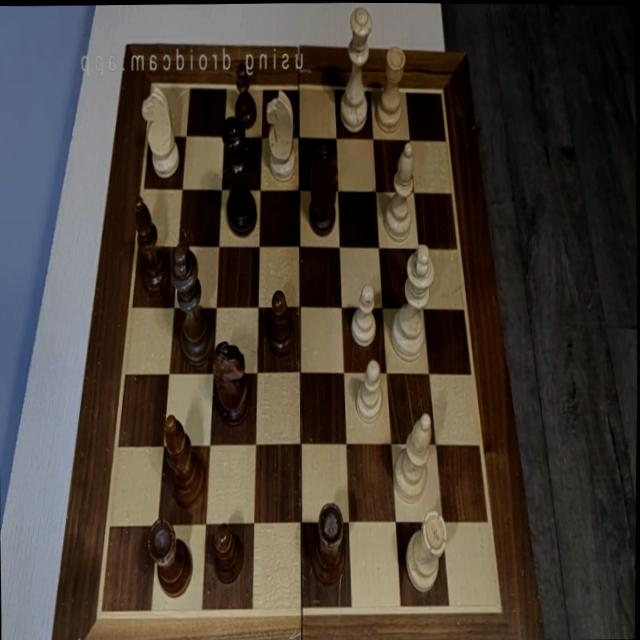black_bishop: (163, 413, 209, 508), (132, 196, 171, 296)
black_king: (172, 240, 214, 362)
black_knight: (213, 340, 252, 427), (308, 142, 339, 236)
black_pawn: (266, 290, 296, 358), (211, 521, 243, 583), (233, 60, 257, 129)
black_queen: (221, 113, 258, 235)
black_rook: (147, 518, 193, 596), (312, 500, 347, 585)
white_bishop: (392, 411, 434, 504), (382, 142, 418, 238)
white_king: (388, 243, 436, 362)
white_knight: (140, 82, 180, 177), (264, 88, 296, 180)
white_pawn: (354, 354, 383, 419), (350, 281, 377, 345)
white_queen: (337, 5, 374, 133)
white_rook: (406, 507, 449, 591), (375, 42, 407, 130)
